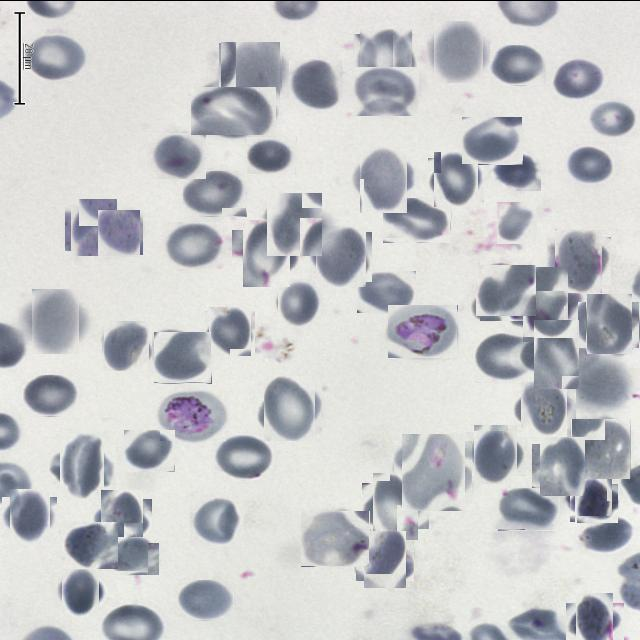red blood cell: (398, 436, 468, 506), (191, 86, 276, 134), (301, 510, 370, 566), (220, 41, 282, 103), (516, 272, 576, 334), (571, 418, 631, 478), (264, 194, 324, 253), (260, 378, 318, 436), (528, 324, 586, 382), (355, 149, 412, 207), (356, 31, 414, 88), (354, 66, 419, 116), (475, 332, 540, 382), (238, 224, 294, 281), (27, 292, 84, 348), (368, 476, 423, 534), (54, 438, 110, 494), (313, 228, 369, 284), (550, 232, 606, 288), (478, 262, 534, 318), (431, 24, 486, 80), (383, 197, 451, 242), (154, 330, 212, 382), (22, 33, 86, 80), (516, 378, 571, 432), (582, 296, 636, 351), (182, 170, 246, 216), (462, 116, 523, 164), (163, 221, 225, 268), (214, 434, 275, 480), (469, 427, 522, 479), (536, 439, 588, 492), (190, 496, 245, 546), (68, 201, 120, 253), (61, 521, 118, 568), (498, 487, 560, 530), (289, 59, 342, 109), (96, 494, 148, 544), (431, 154, 481, 204), (360, 534, 410, 584), (152, 132, 206, 178), (357, 270, 416, 312), (23, 374, 79, 416), (490, 44, 547, 85), (551, 57, 606, 99), (103, 321, 151, 369), (178, 579, 234, 620), (6, 492, 54, 539), (577, 514, 635, 552), (124, 429, 175, 471), (207, 308, 253, 354), (276, 280, 322, 326), (96, 210, 142, 256), (107, 536, 160, 575), (491, 150, 541, 190), (588, 99, 640, 137), (572, 598, 619, 640), (59, 569, 103, 613), (567, 143, 615, 183), (246, 136, 296, 174), (572, 481, 616, 524), (497, 201, 536, 243)
trophozoite: (388, 304, 458, 358), (160, 390, 226, 440)
